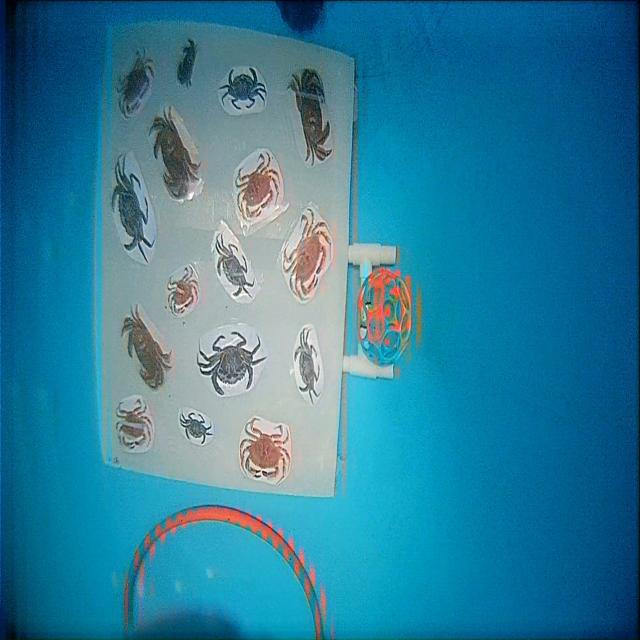GreenCrab: (112, 159, 155, 263), (198, 332, 266, 395), (215, 234, 255, 297), (219, 68, 266, 110), (294, 329, 319, 405)
